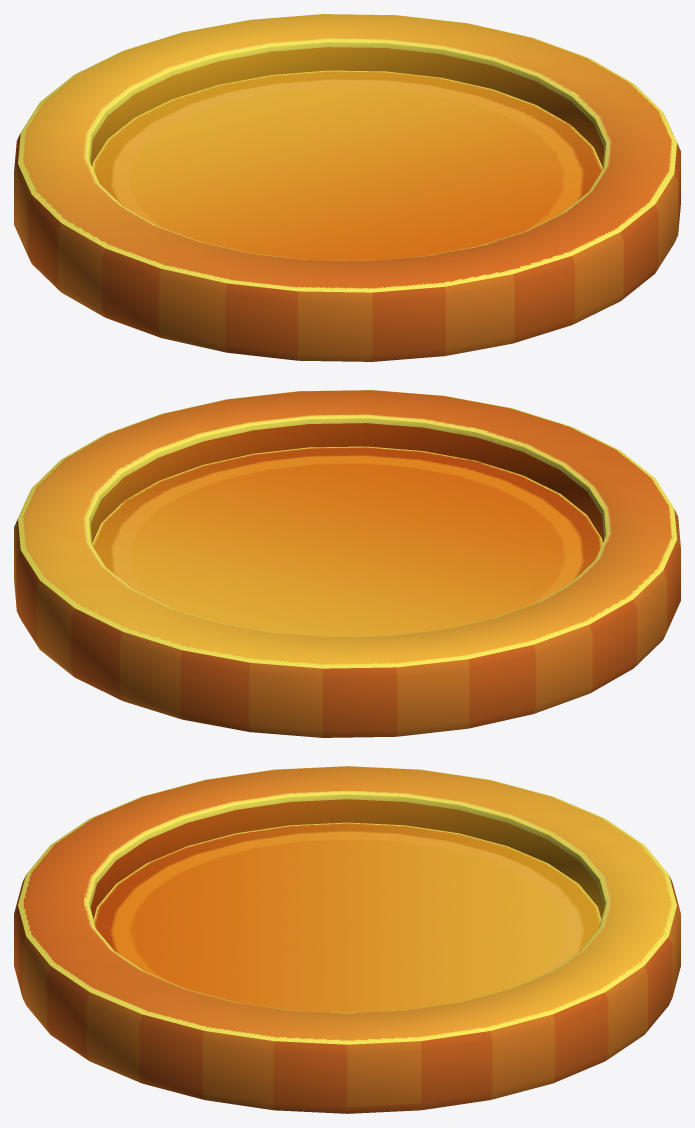
File: coin gold.fbx
The picture shows the model from 3 angles, top to bottom: view 1: azimuth 30°, elevation 25°; view 2: azimuth 150°, elevation 25°; view 3: azimuth 270°, elevation 25°; orthographic projection.
Parts seen in each view (by area): view 1: Cylinder.045; view 2: Cylinder.045; view 3: Cylinder.045.
Boxes of the visible parts, left/top/right/bottom form: Cylinder.045: left=14, top=14, right=680, bottom=361; Cylinder.045: left=14, top=390, right=680, bottom=737; Cylinder.045: left=14, top=766, right=680, bottom=1113.
Bounding box in the file's own units: 193 × 24.31 × 193.
1 material, 1 textured.
